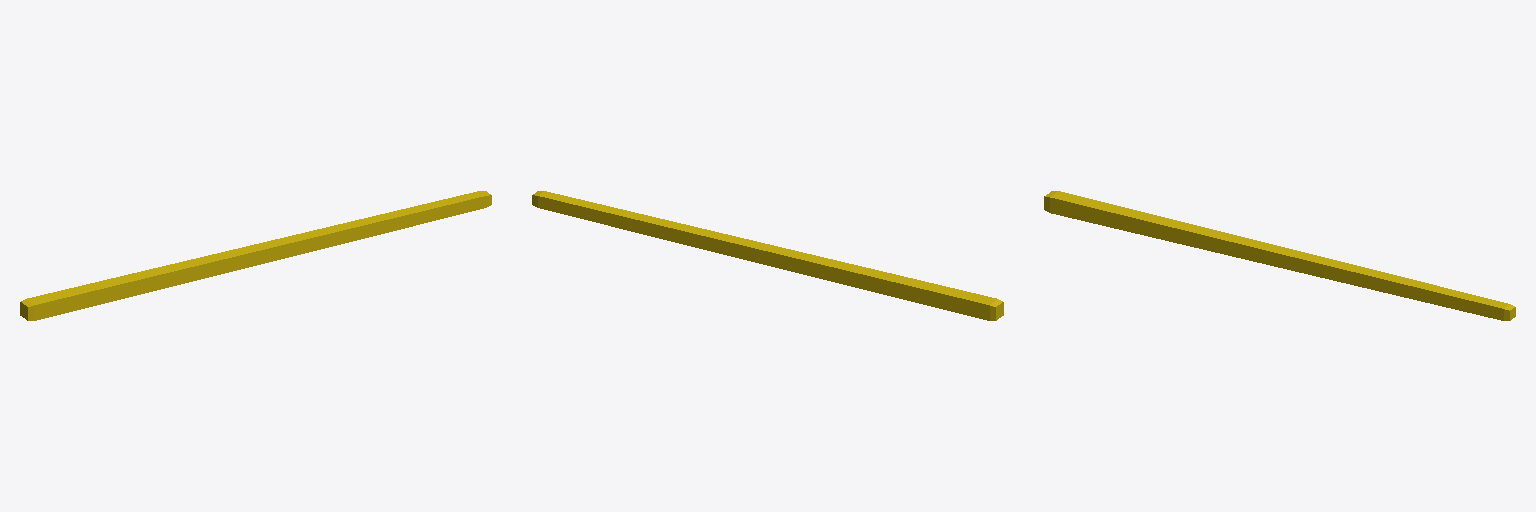
URDF robot description (cb_chopstick_sq):
<?xml version="1.0"?>
<!-- ContactBench chopstick variant chopstick_sq. Generated by FoundationTouch tools/contactbench/make_chop_variants.py -->
<robot name="cb_chopstick_sq">
  <material name="c"><color rgba="0.85 0.75 0.10 1.0"/></material>
  <link name="object">
    <visual><origin xyz="0 0 0" rpy="0 0 0"/><geometry><mesh filename="chopstick_sq.obj" scale="1 1 1"/></geometry><material name="c"/></visual>
    <collision><origin xyz="0 0 0" rpy="0 0 0"/><geometry><mesh filename="coll_00.obj" scale="1 1 1"/></geometry></collision>
    <inertial><mass value="0.004118"/><origin xyz="0 0 0" rpy="0 0 0"/><inertia ixx="2.332297e-08" ixy="-0.000000e+00" ixz="-0.000000e+00" iyy="1.340286e-05" iyz="1.001664e-25" izz="1.340286e-05"/></inertial>
  </link>
</robot>

--- What the picture shows (computed from the rendered views, not written in the file) ---
Views: 3 orthographic renders of the robot side by side, from view 1: azimuth 30°, elevation 25°; view 2: azimuth 150°, elevation 25°; view 3: azimuth 330°, elevation 25°.
Model cb_chopstick_sq with 1 links and 0 joints (none), rooted at object, posed all joints at 0.
Visible links, largest first — view 1: object; view 2: object; view 3: object.
Link boxes in pixels (x1,y1,x2,y2): object: (20,191,491,320); object: (532,191,1003,320); object: (1044,191,1515,320).
Bounding box of the posed robot: 0.2 × 0.0065 × 0.0065 m (x, y, z).
1 mesh visuals loaded from 1 distinct referenced files (1 OBJ).
